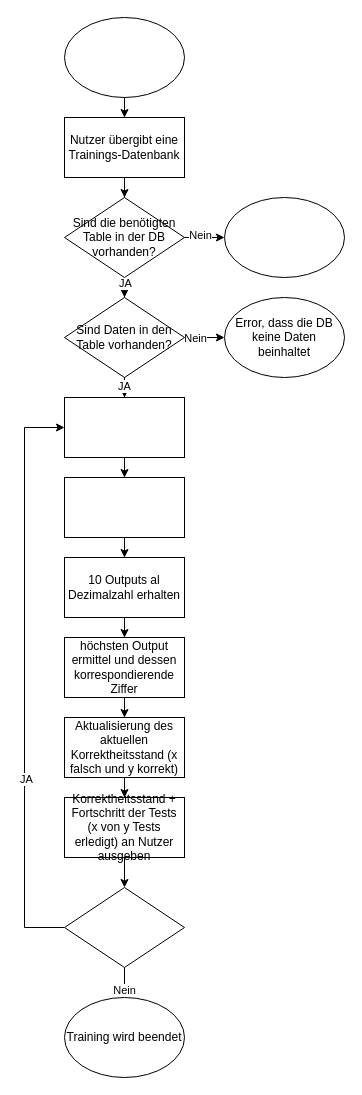
The diagram is 362 pixels wide and 1095 high, and some of its shapes have lost their labels. The shapes that lost their labels are listed below. From the top down, each one's centre as x and y in pixels, then its label:
At [124,57]: "Nutzer startet Applikation im Testmodus".
At [284,237]: "Error, dass die DB nicht korrekt gebaut ist".
At [124,427]: "einzelnen Datensatz auslesen".
At [124,507]: "CNN-Magic (siehe eigenes Ablaufsdiagramm)".
At [124,927]: "Sind noch Daten vorhanden welche noch nicht behandelt wurden?".
